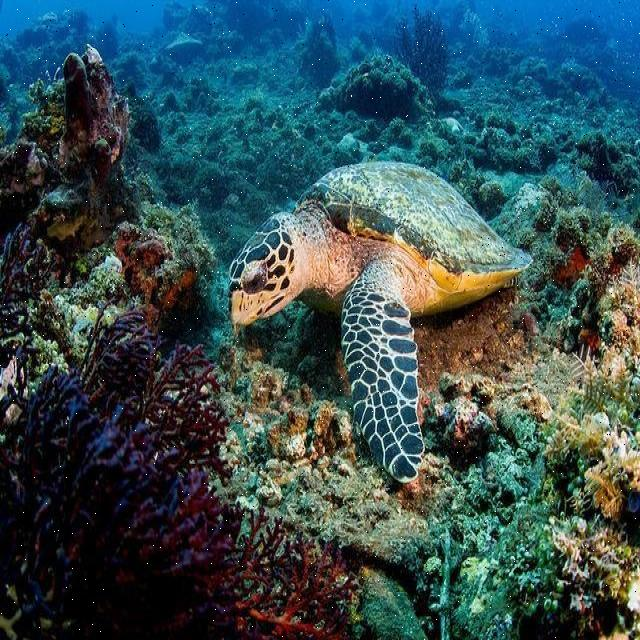fish: (226, 159, 533, 485)
